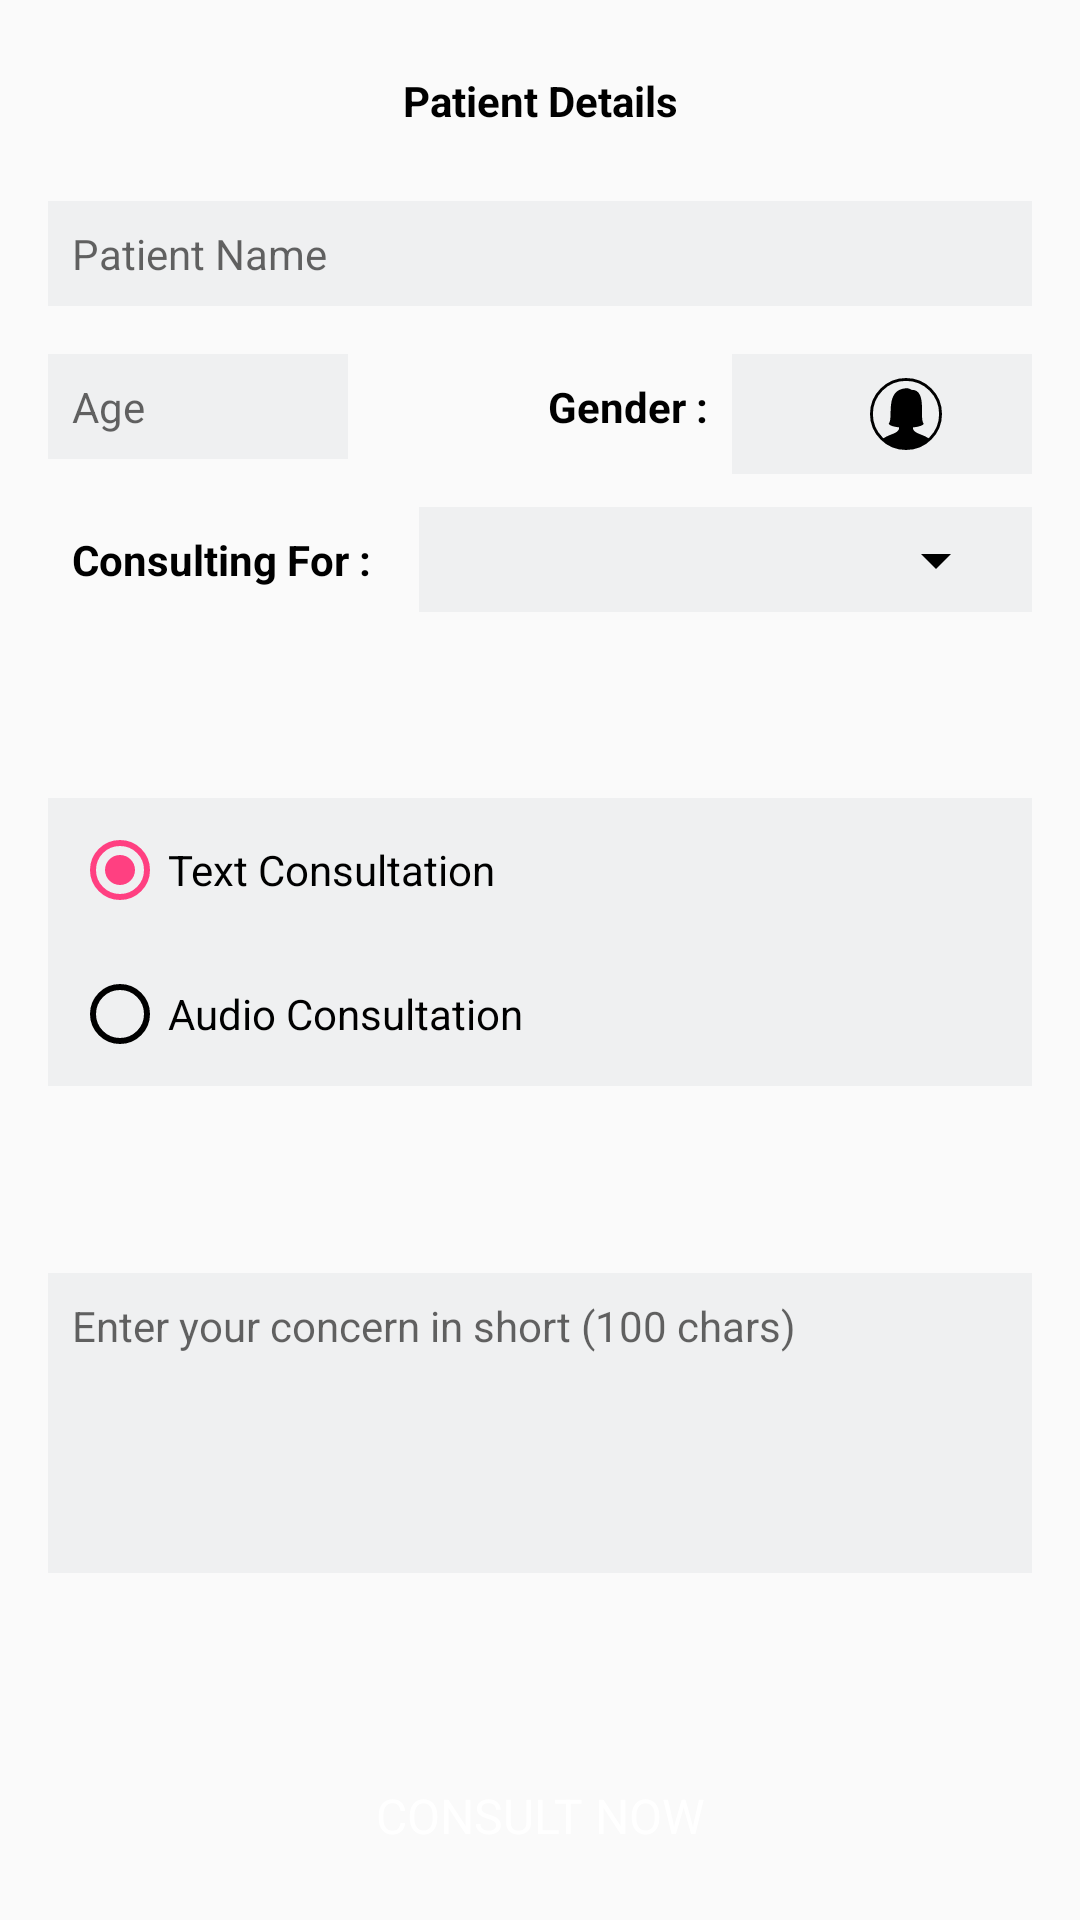

Point at icon controls on the screen. Image size 1080px×1920px, points as point (x, y).
female unclick: point (906, 414)
